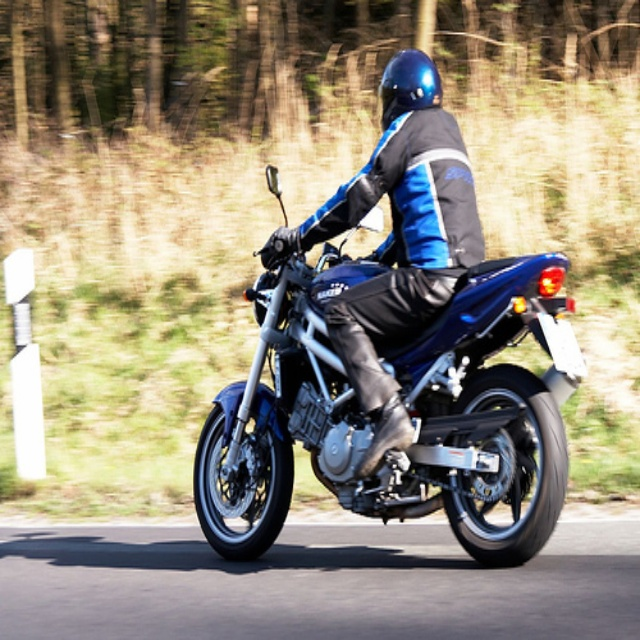Motorcycle: (192, 165, 585, 566)
